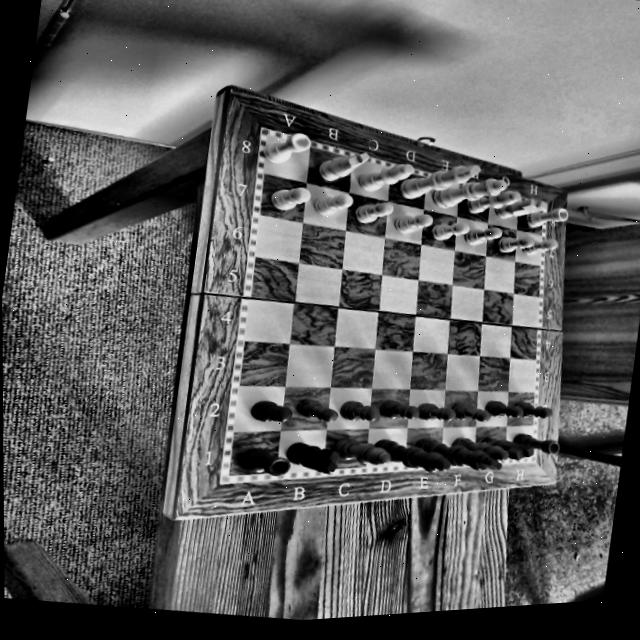black-bishop: (332, 429, 394, 472), (451, 432, 510, 465)
black-king: (410, 433, 504, 479)
black-knight: (287, 437, 343, 478), (479, 434, 541, 465)
black-pawn: (248, 394, 294, 429), (450, 397, 498, 427), (417, 396, 460, 429), (378, 396, 421, 428), (296, 396, 342, 425), (513, 398, 559, 426), (487, 397, 527, 424), (340, 398, 380, 424)
black-queen: (370, 433, 452, 480)
black-rook: (237, 441, 295, 482), (512, 430, 564, 460)
white-bishop: (357, 155, 417, 200), (463, 182, 524, 220)
white-king: (394, 152, 484, 211)
white-knight: (316, 142, 374, 189), (493, 189, 552, 226)
white-pawn: (350, 194, 399, 229), (387, 208, 435, 240), (516, 231, 563, 263), (312, 186, 356, 220), (430, 216, 471, 248), (268, 183, 311, 213), (497, 230, 538, 261), (463, 220, 505, 249)
white-queen: (430, 170, 508, 217)
white-rook: (260, 121, 324, 172), (522, 202, 573, 233)
